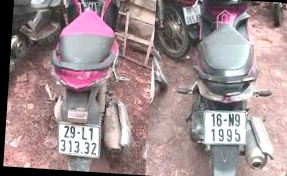Bien-so: (201, 107, 249, 148), (55, 121, 102, 159), (183, 4, 203, 26)
